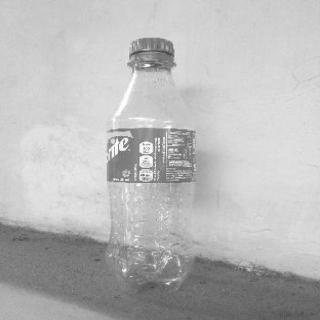plastic_bottles: (101, 36, 199, 297)
